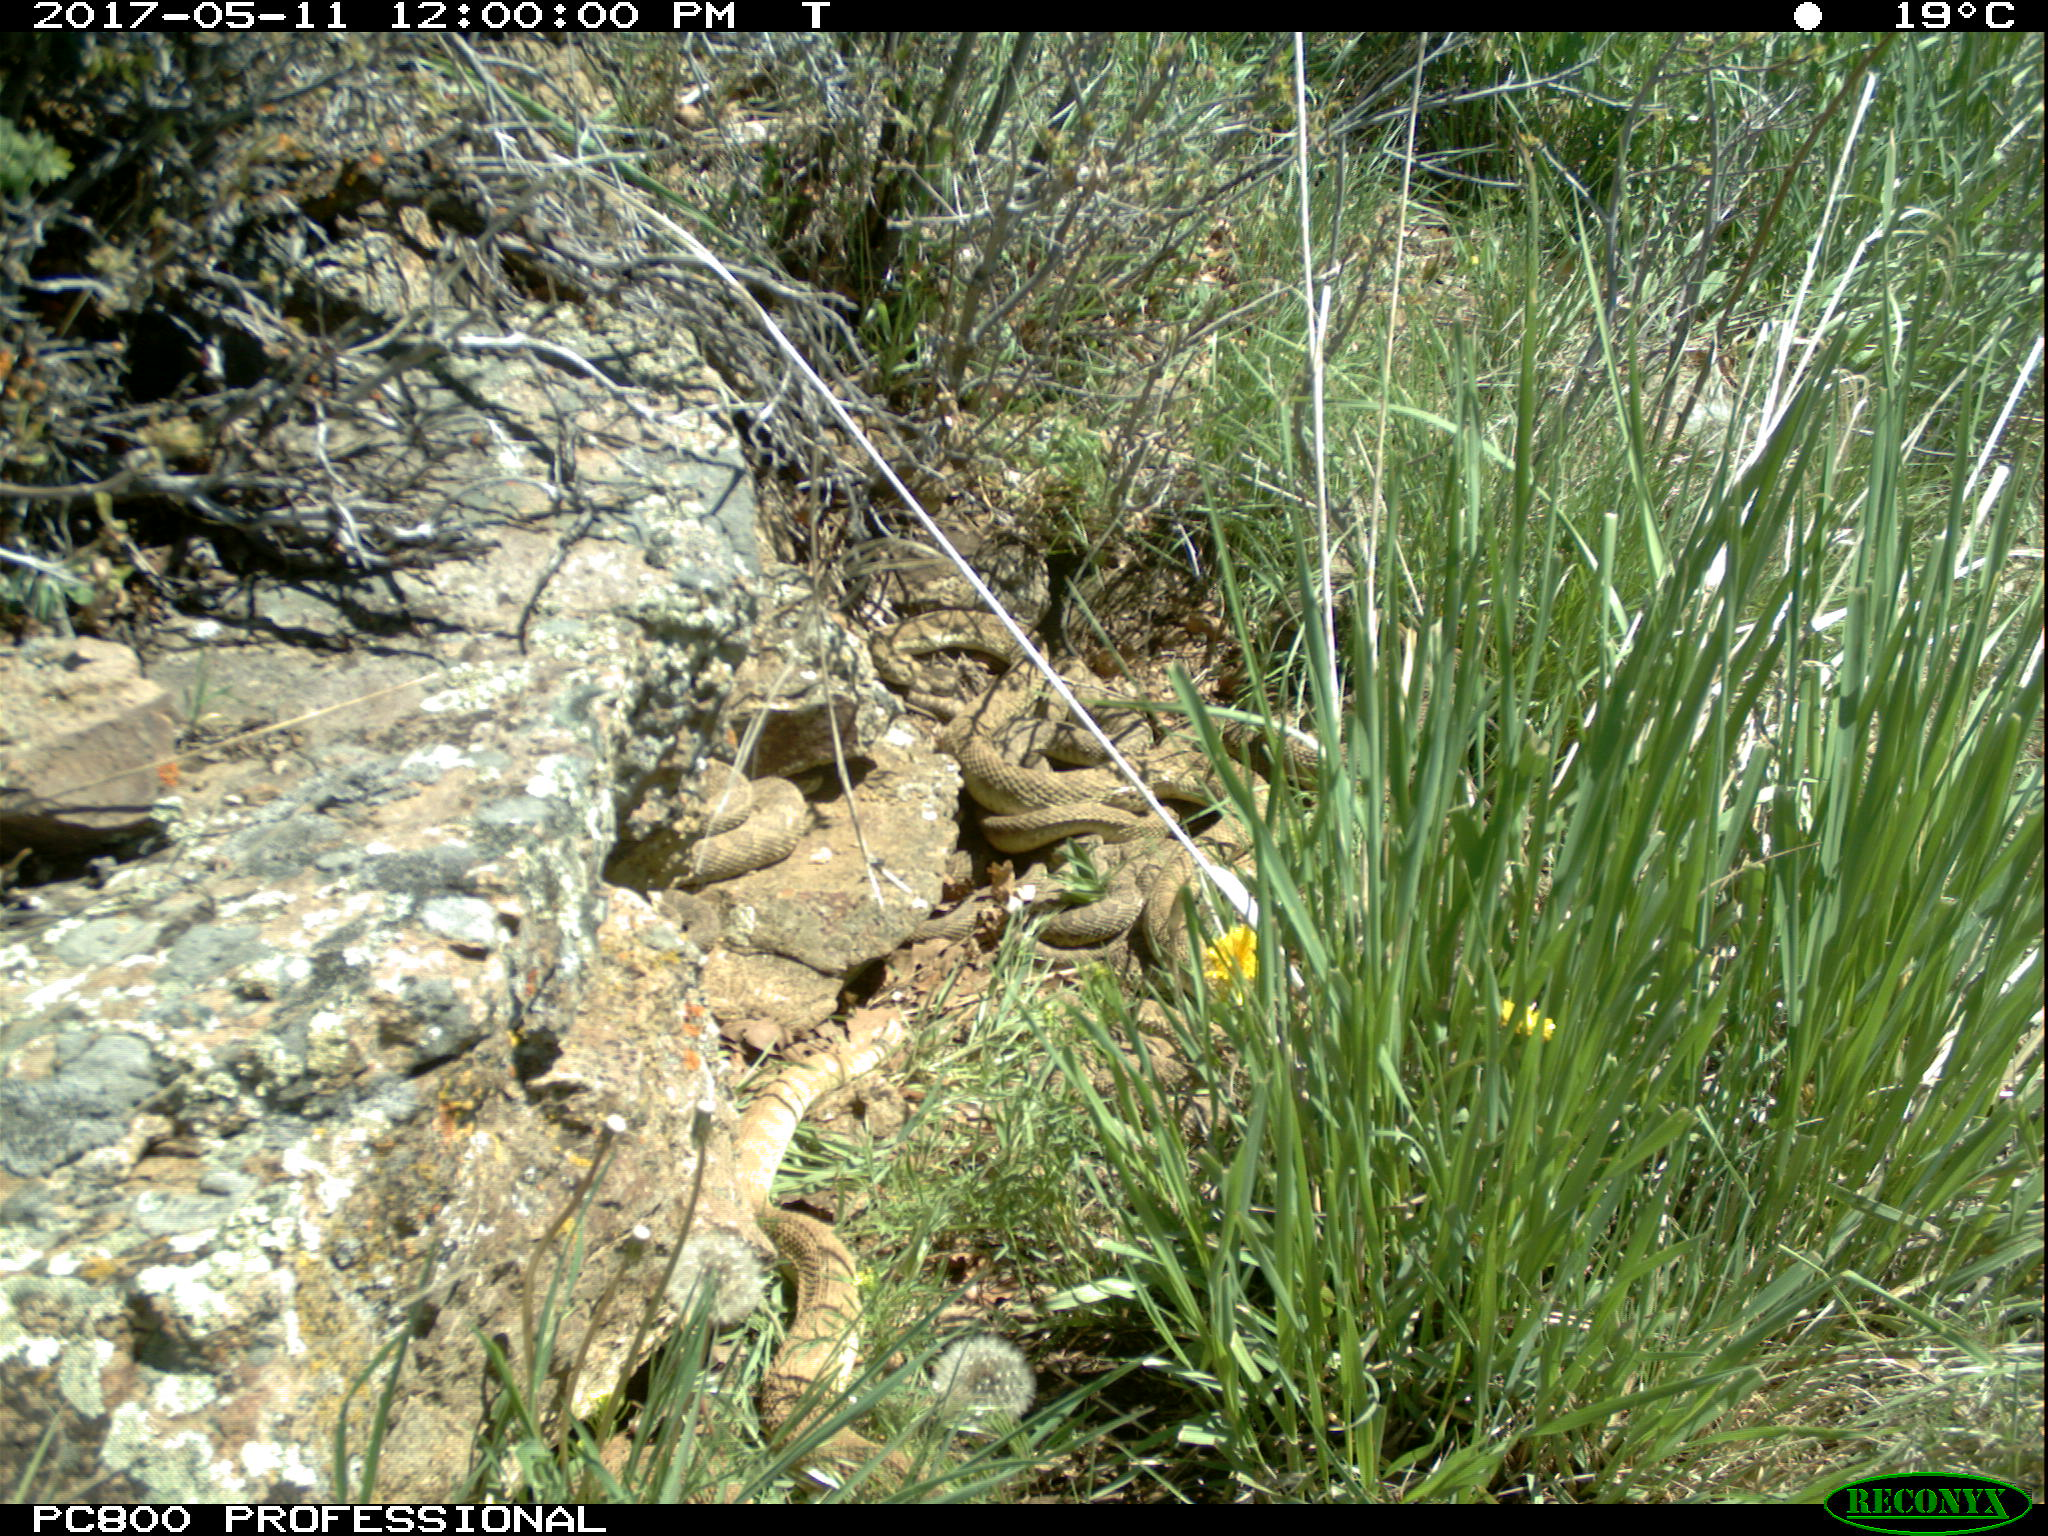snake: (734, 1007, 927, 1502), (876, 605, 1137, 845), (951, 702, 1159, 874), (1134, 721, 1334, 862), (674, 757, 813, 887), (1022, 854, 1205, 945)
